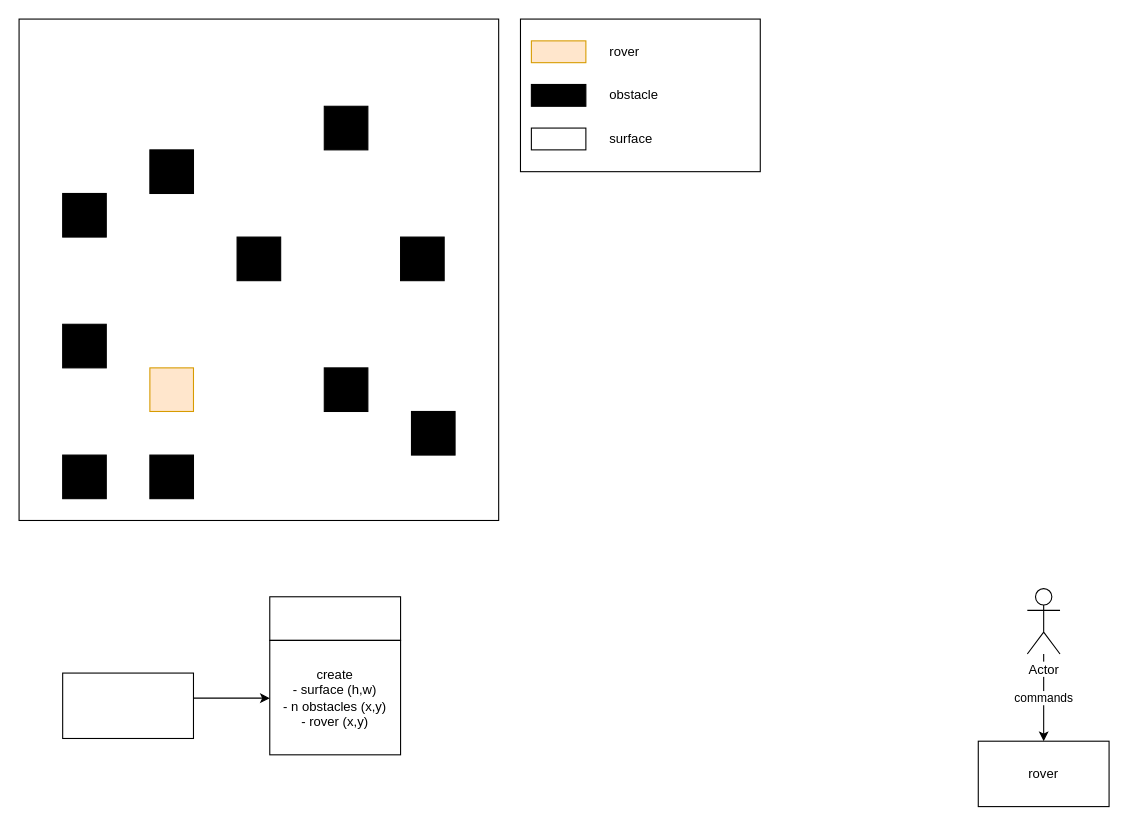
This 1128x826 diagram has some shape labels left out. Here are the shapes that lost their labels. From the top down, the centre of each, then its label:
At (335,618): "state".
At (127,705): "init".
